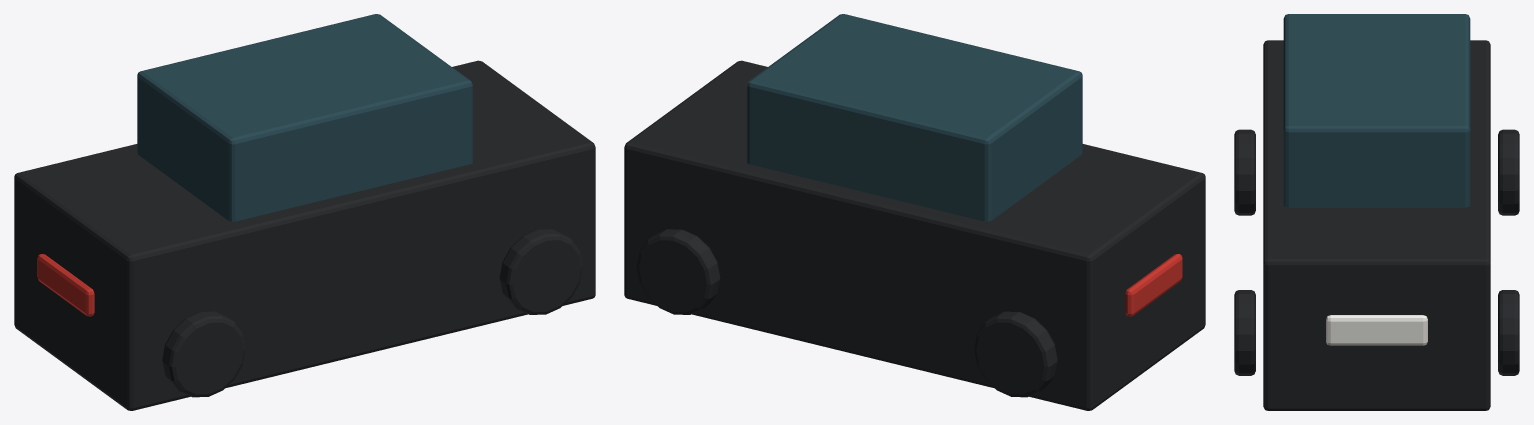
Rendered from Vehicle_004.glb.
3 views of the same model, side by side, from view 1: azimuth 30°, elevation 25°; view 2: azimuth 150°, elevation 25°; view 3: azimuth 270°, elevation 25° (orthographic). The views are drawn at different scales.
Visible parts, largest first — view 1: Vehicle_004; view 2: Vehicle_004; view 3: Vehicle_004.
Boxes of the visible parts, x1,y1,x2,y2 form: Vehicle_004: (14, 14, 595, 410); Vehicle_004: (624, 14, 1205, 410); Vehicle_004: (1234, 14, 1519, 410).
Size of the model in its own units: 4.57 by 2.14 by 2.38.
